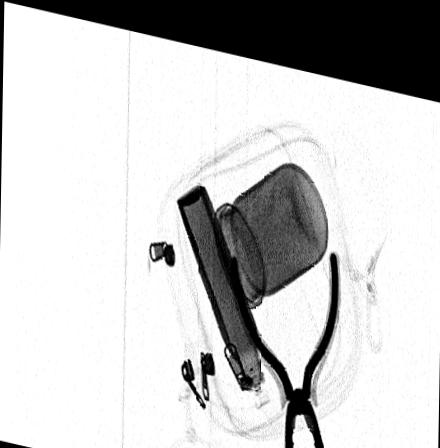Pliers: (227, 234, 336, 448)
